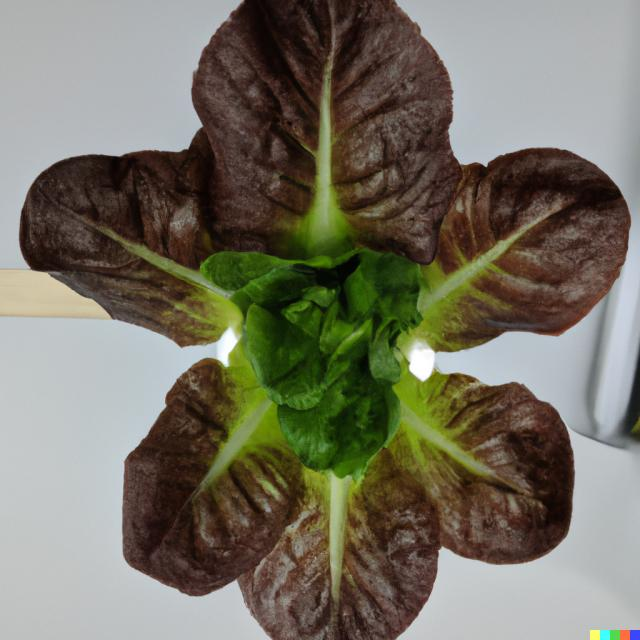-P: (2, 0, 638, 640)
